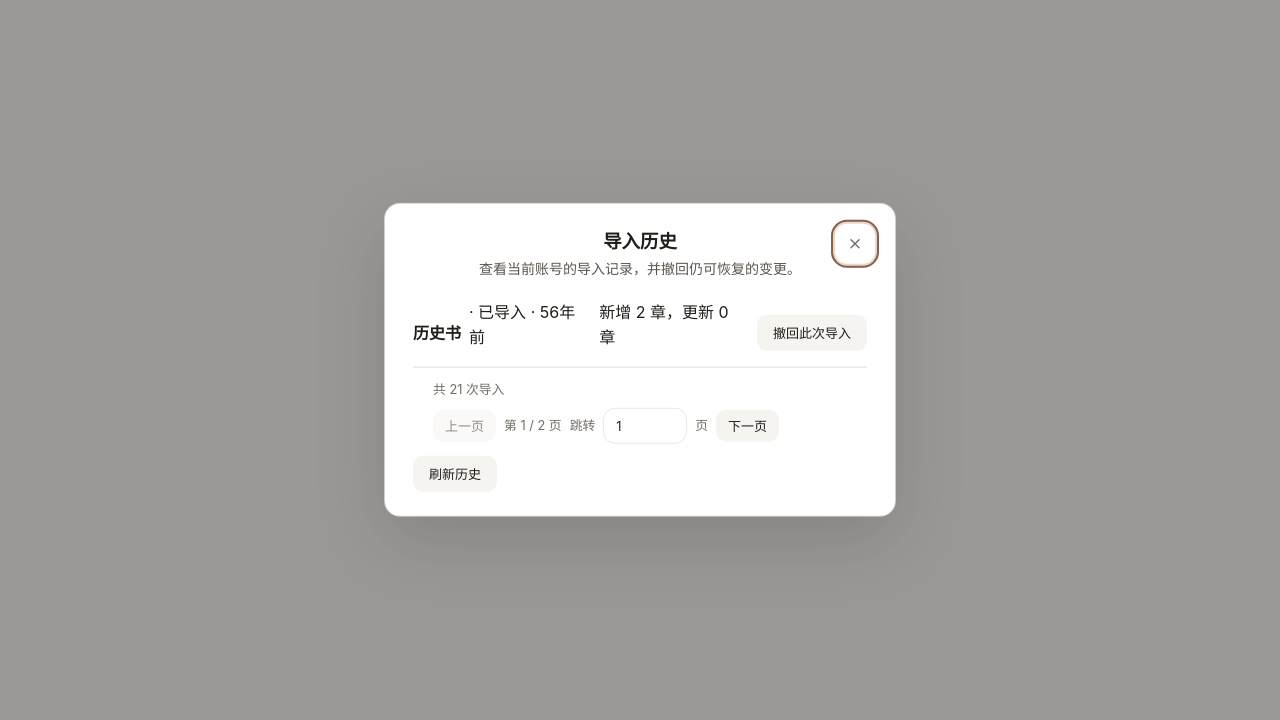
Scenario: 历史可翻页、确认后回滚，展示冲突并刷新小说列表
Expected: the text "历史书" is shown, [413, 320, 461, 346]
Click the button "下一页". click: (748, 426)
box: [716, 410, 779, 442]
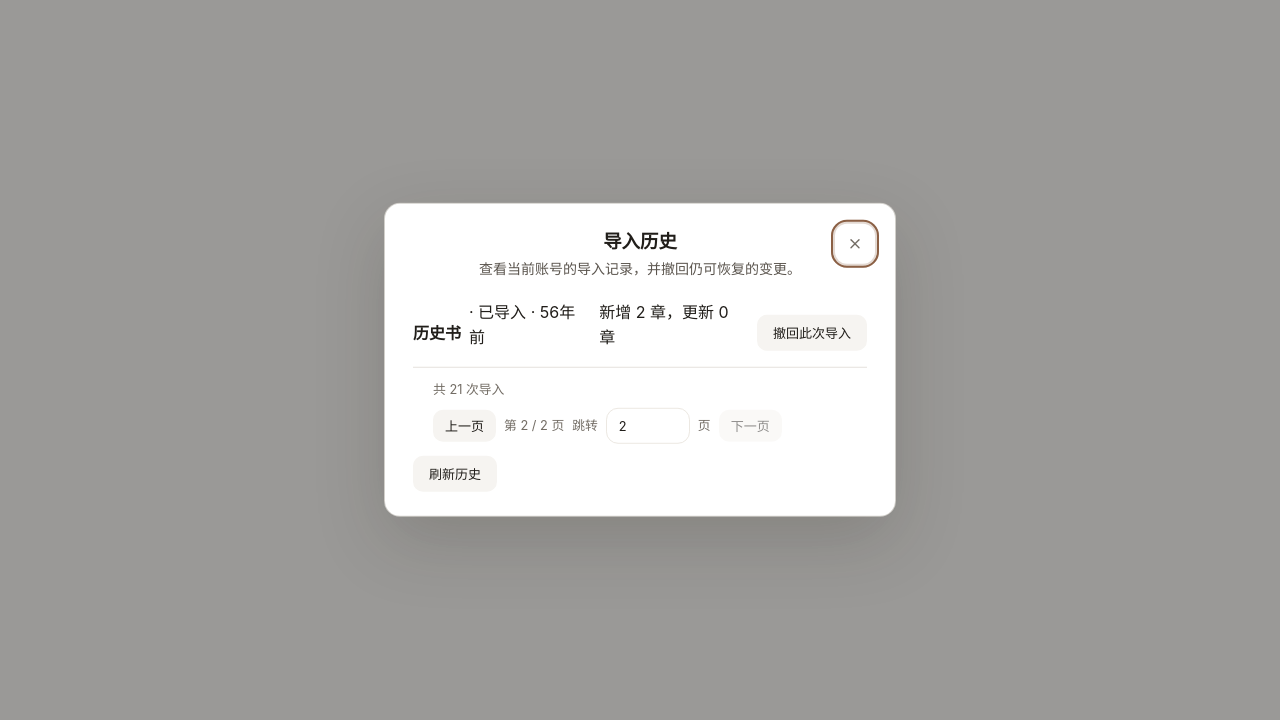
Expected: the text "历史书" is shown, [413, 320, 461, 346]
Click the button "撤回此次导入". click: (812, 333)
box: [757, 315, 867, 351]
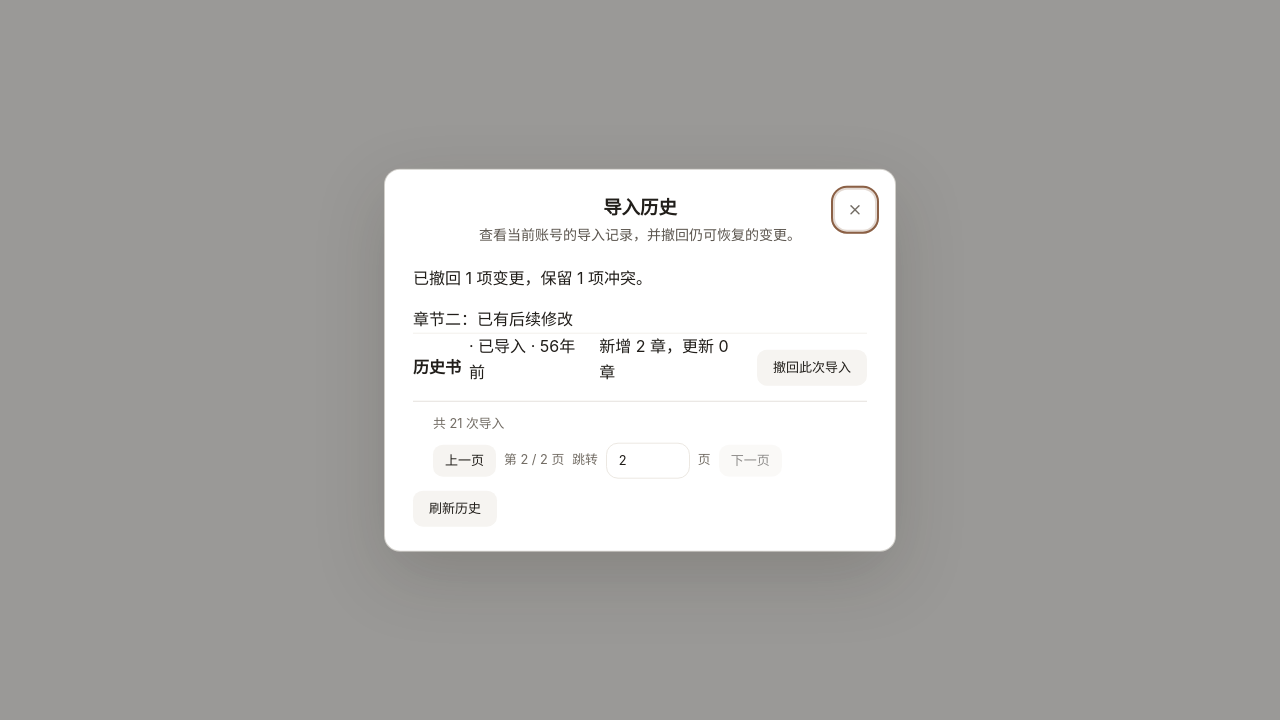
Expected: the text "章节二：已有后续修改" is shown, [413, 309, 573, 329]
